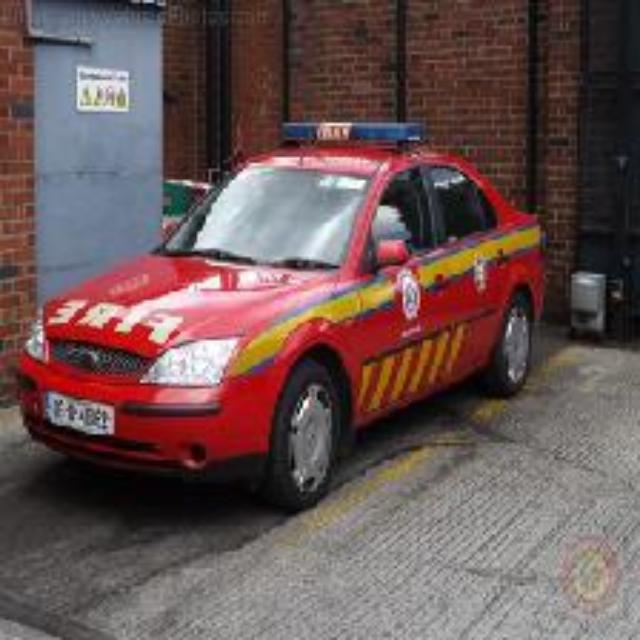emergency: (33, 119, 544, 487)
